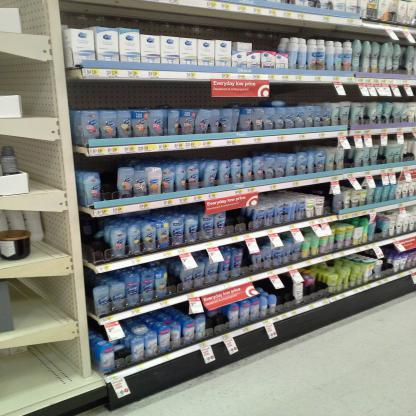Void: (75, 83, 200, 106), (92, 164, 116, 199), (81, 230, 105, 260), (253, 28, 276, 50), (275, 287, 295, 311), (206, 314, 228, 332), (113, 353, 134, 366), (232, 212, 247, 229)
